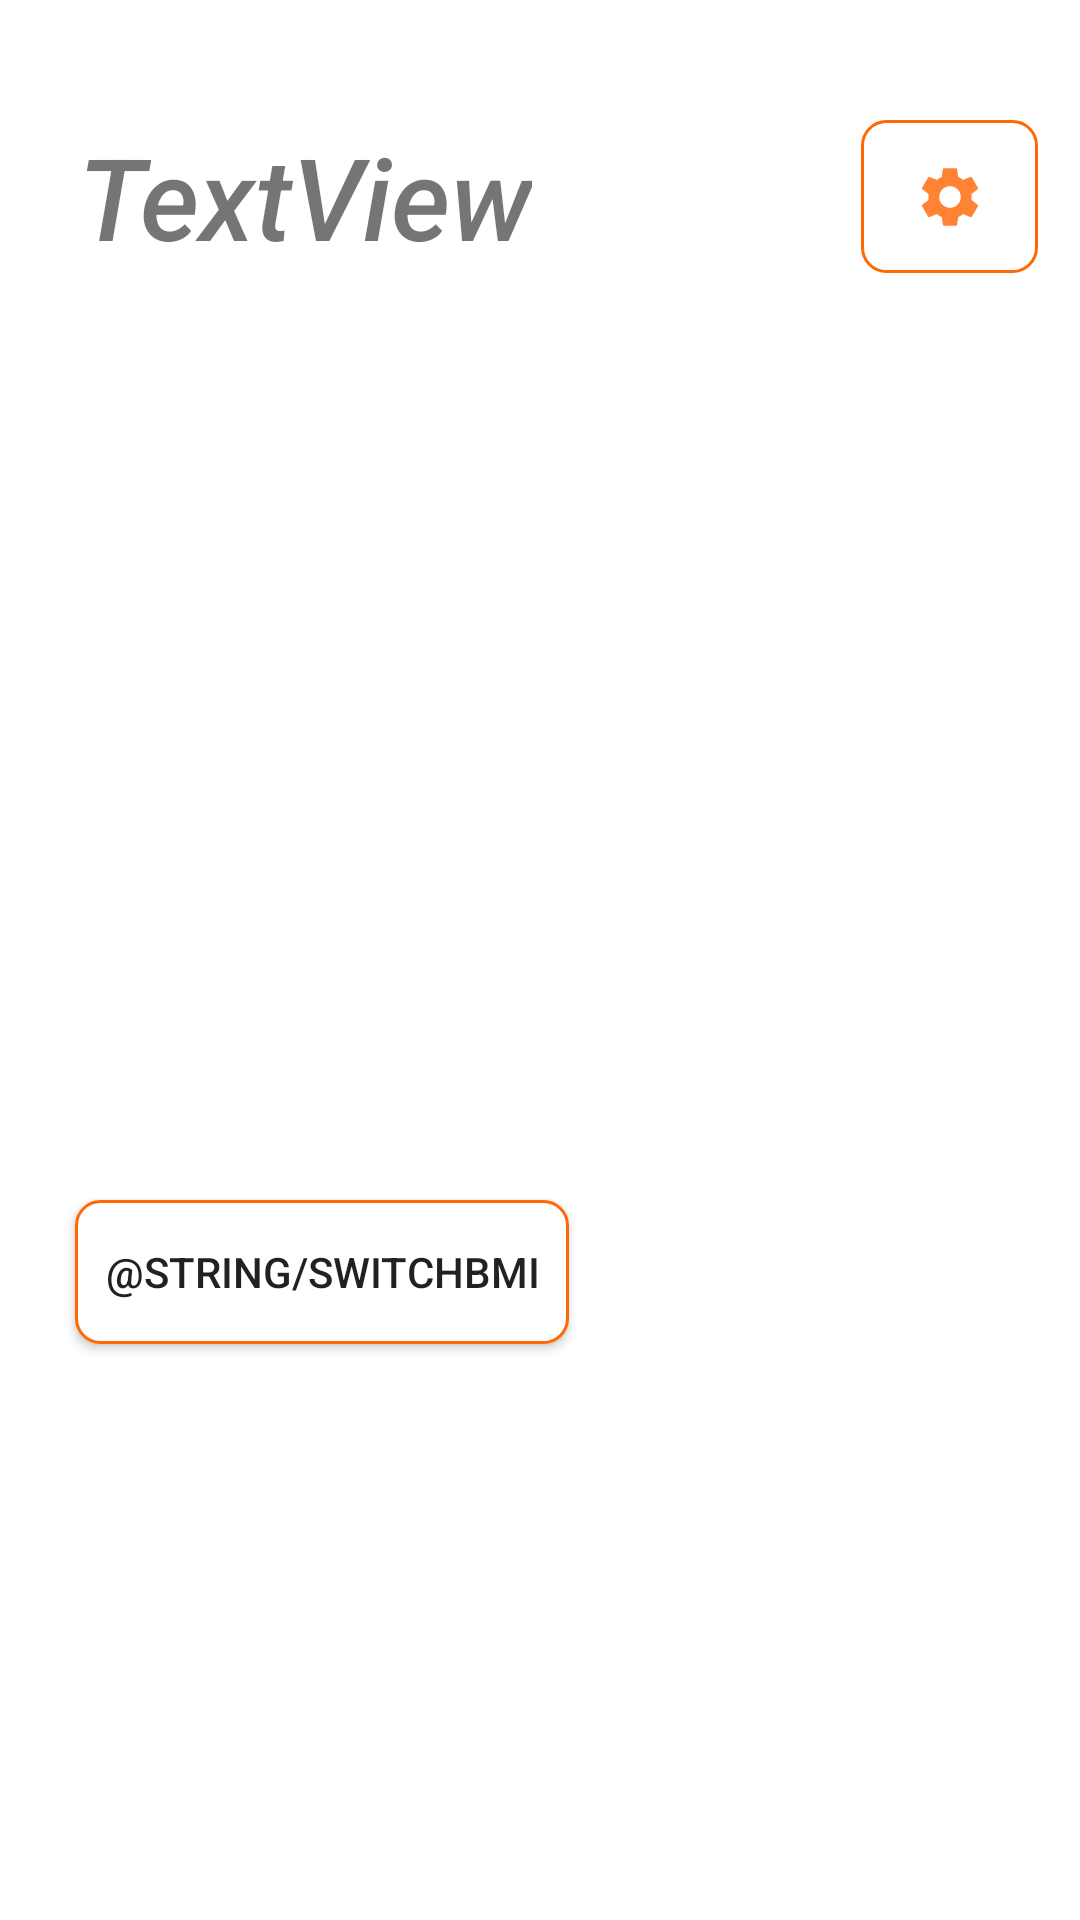

Screen size 1080px×1920px. Icon name, then its box in pixels as detection(x1, y1, x2, y2):
settings: detection(861, 120, 1038, 273)
